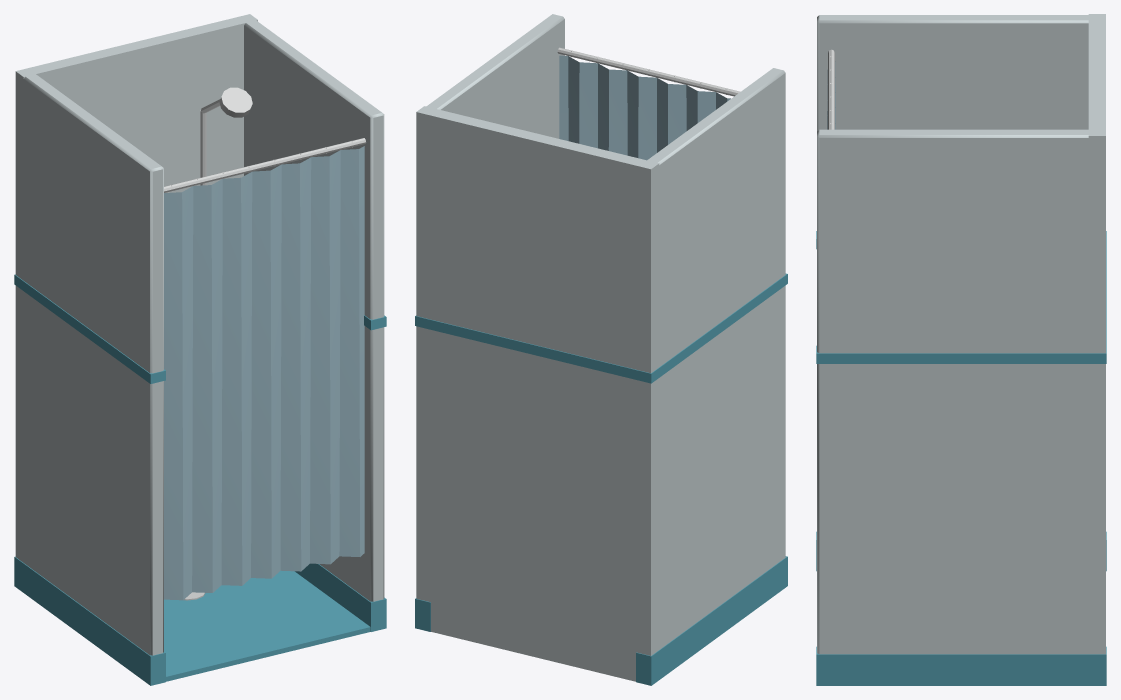
File: shower_booth.glb
3 renders of one model, left to right at view 1: azimuth 30°, elevation 25°; view 2: azimuth 150°, elevation 25°; view 3: azimuth 270°, elevation 25°, orthographic. The views are drawn at different scales.
Parts seen in each view (by area): view 1: ShowerBody, Door; view 2: ShowerBody, Door; view 3: ShowerBody.
Boxes of the visible parts, box(x1,y1,x2,y2) form: ShowerBody: box(14, 14, 386, 685); Door: box(164, 141, 364, 600); ShowerBody: box(415, 14, 787, 685); Door: box(559, 50, 730, 160); ShowerBody: box(816, 14, 1106, 685).
Size of the model in its own units: 1.01 by 2.1 by 1.01.
